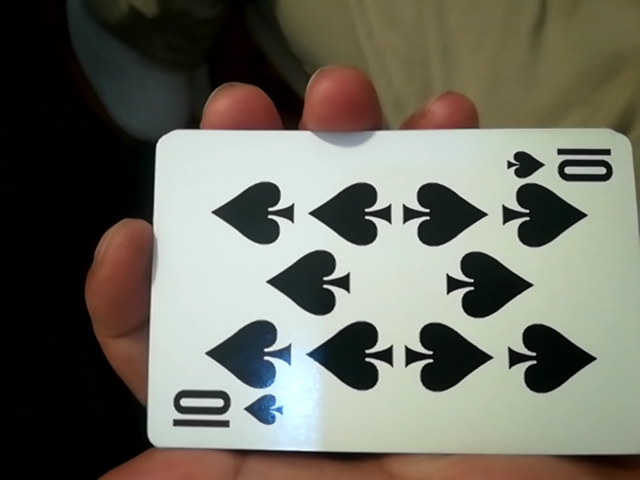ht 10: (134, 118, 626, 463)
